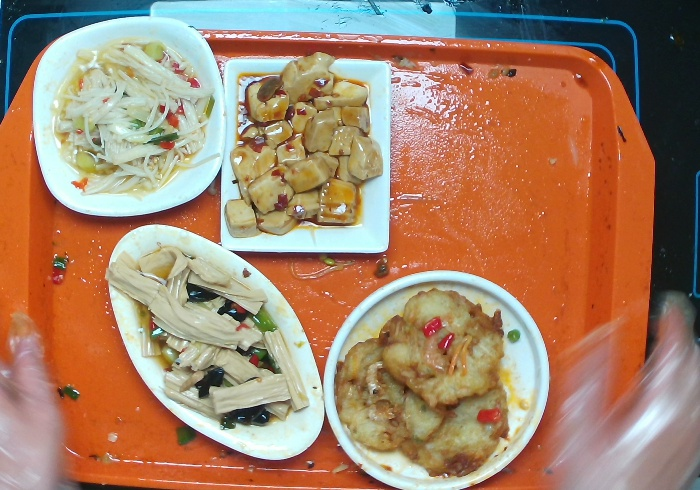HZYJPL-Si_Fang_Die: (213, 49, 399, 253)
HZYJPL-Si_Fang_Yuan_Die: (31, 17, 223, 226)
HZYJPL-Xiao_Yu_Die: (100, 222, 327, 467)
HZYJPL-Xiao_Yuan_Die: (320, 266, 554, 489)
